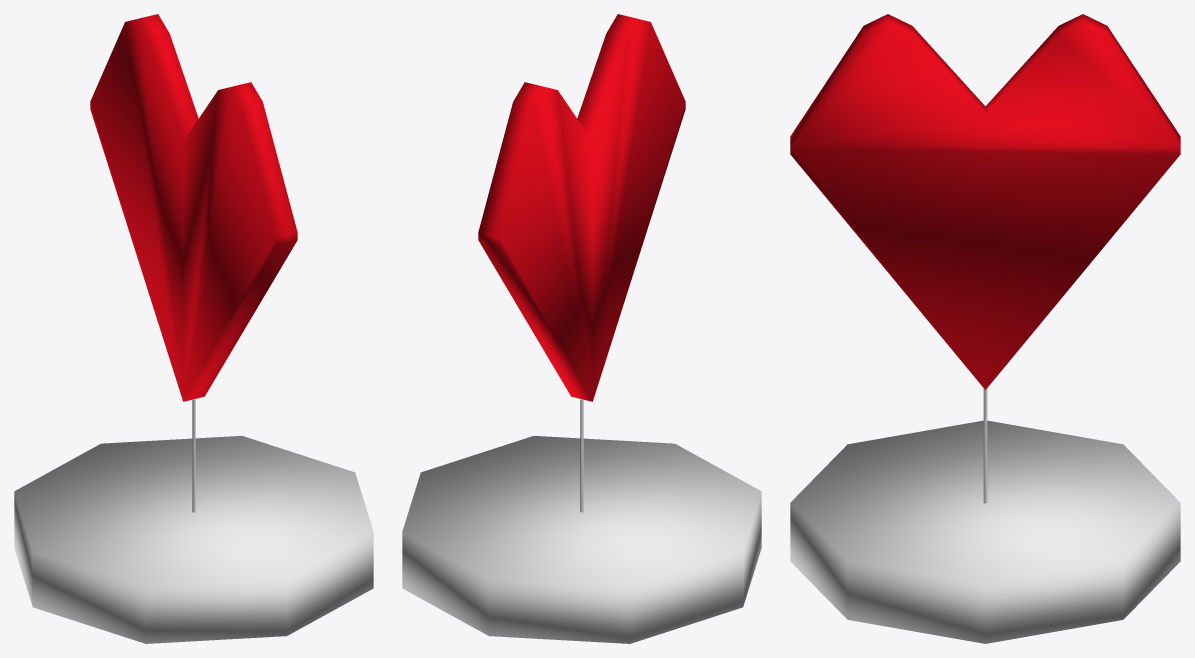
File: Heart.fbx
3 renders of one model, left to right at view 1: azimuth 30°, elevation 25°; view 2: azimuth 150°, elevation 25°; view 3: azimuth 270°, elevation 25°, orthographic. The views are drawn at different scales.
Parts seen in each view (by area): view 1: StandBottom, Heart; view 2: StandBottom, Heart; view 3: Heart, StandBottom, Stand.
Part boxes in pixels (x1,y1,x2,y2): StandBottom: (14, 436, 373, 643); Heart: (90, 14, 297, 401); StandBottom: (402, 436, 761, 643); Heart: (478, 14, 685, 401); Heart: (790, 14, 1180, 389); StandBottom: (790, 420, 1180, 643); Stand: (983, 388, 987, 503).
Size of the model in its own units: 3 by 4.6 by 3.
